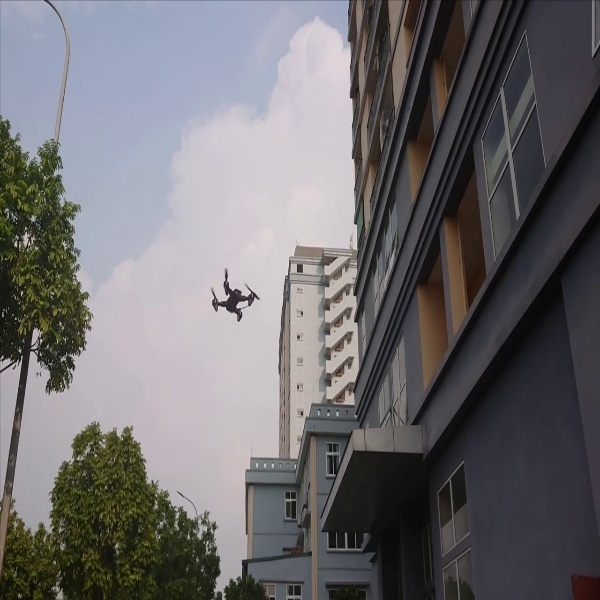drone: (201, 262, 268, 328)
